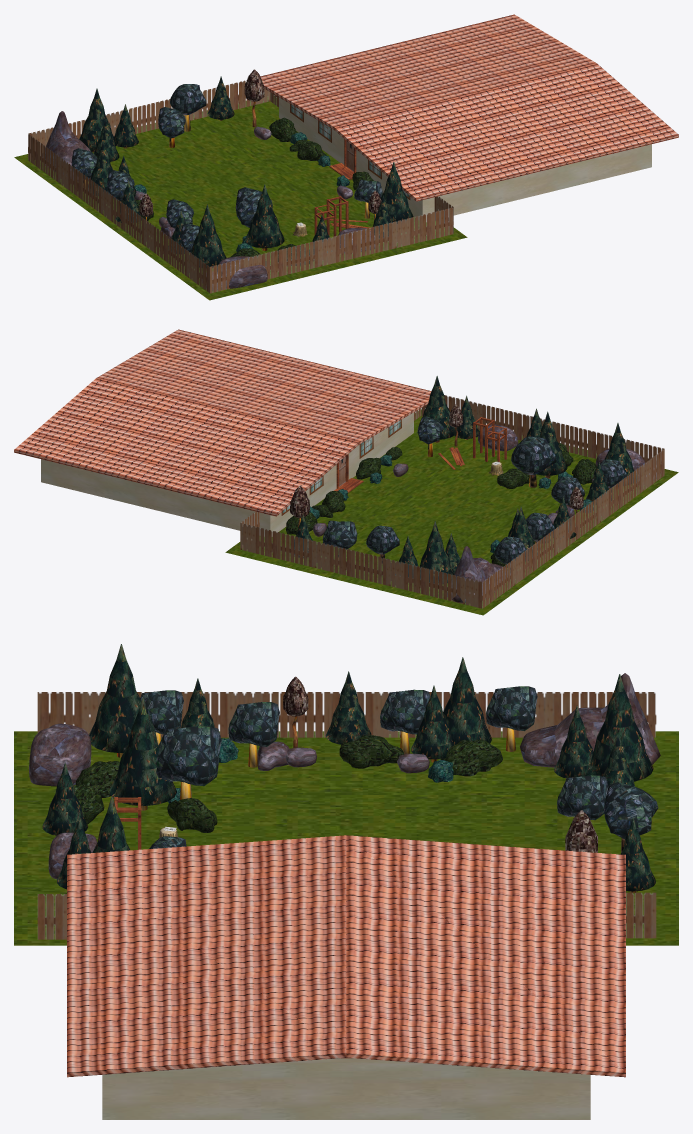
Rendered from house-exterior4.glb.
3 views of the same model, one above another, from view 1: azimuth 30°, elevation 25°; view 2: azimuth 150°, elevation 25°; view 3: azimuth 270°, elevation 25° (orthographic). The views are drawn at different scales.
Parts seen in each view (by area): view 1: roof-top, ground, fence, exterior-lower, wall.pinetree.001, wall.pinetree04, wall.rock_lg, wall.pinetree04.001, wall.pinetree, wall.rocklg02.002, wall.tree03, wall.tree02.001 (+12 smaller); view 2: roof-top, ground, fence, exterior-lower, wall.tree02.001, wall.rock_lg, wall.pinetree, wall.pinetree04.001, wall.tree03, wall.pinetree.001, wall.tree02, wall.pinetree04 (+13 smaller); view 3: roof-top, ground, exterior-lower, fence, wall.pinetree.001, wall.rock_lg, wall.tree02.001, wall.pinetree04, wall.pinetree, wall.rocklg02.002, wall.pinetree.002, wall.tree03 (+23 smaller).
Part boxes in pixels (x1,y1,x2,y2): roof-top: [260, 14, 678, 201]; ground: [14, 96, 467, 300]; fence: [28, 80, 453, 293]; exterior-lower: [279, 97, 651, 222]; wall.pinetree.001: [245, 184, 284, 248]; wall.pinetree04: [191, 204, 226, 267]; wall.rock_lg: [42, 111, 90, 181]; wall.pinetree04.001: [374, 162, 413, 223]; wall.pinetree: [79, 88, 116, 152]; wall.rocklg02.002: [217, 256, 267, 288]; wall.tree03: [170, 84, 206, 115]; wall.tree02.001: [235, 187, 272, 227]; roof-top: [14, 329, 431, 516]; ground: [225, 409, 678, 615]; fence: [240, 395, 664, 608]; exterior-lower: [41, 412, 413, 536]; wall.tree02.001: [511, 436, 556, 474]; wall.rock_lg: [447, 546, 510, 602]; wall.pinetree: [420, 521, 453, 584]; wall.pinetree04.001: [417, 376, 456, 439]; wall.tree03: [322, 520, 357, 549]; wall.pinetree.001: [536, 411, 567, 475]; wall.tree02: [366, 525, 399, 554]; wall.pinetree04: [604, 423, 636, 486]; roof-top: [67, 835, 625, 1077]; ground: [14, 731, 678, 945]; exterior-lower: [102, 1058, 590, 1119]; fence: [37, 692, 656, 939]; wall.pinetree.001: [109, 697, 176, 805]; wall.rock_lg: [520, 673, 660, 767]; wall.tree02.001: [155, 726, 221, 786]; wall.pinetree04: [89, 644, 141, 752]; wall.pinetree: [588, 674, 653, 781]; wall.rocklg02.002: [29, 727, 91, 786]; wall.pinetree.002: [443, 657, 491, 745]; wall.tree03: [604, 782, 658, 839].
Size of what is drawn, in the model's own units: 92.48 by 13.88 by 64.6.
Materials: 16 (16 with a texture image).
